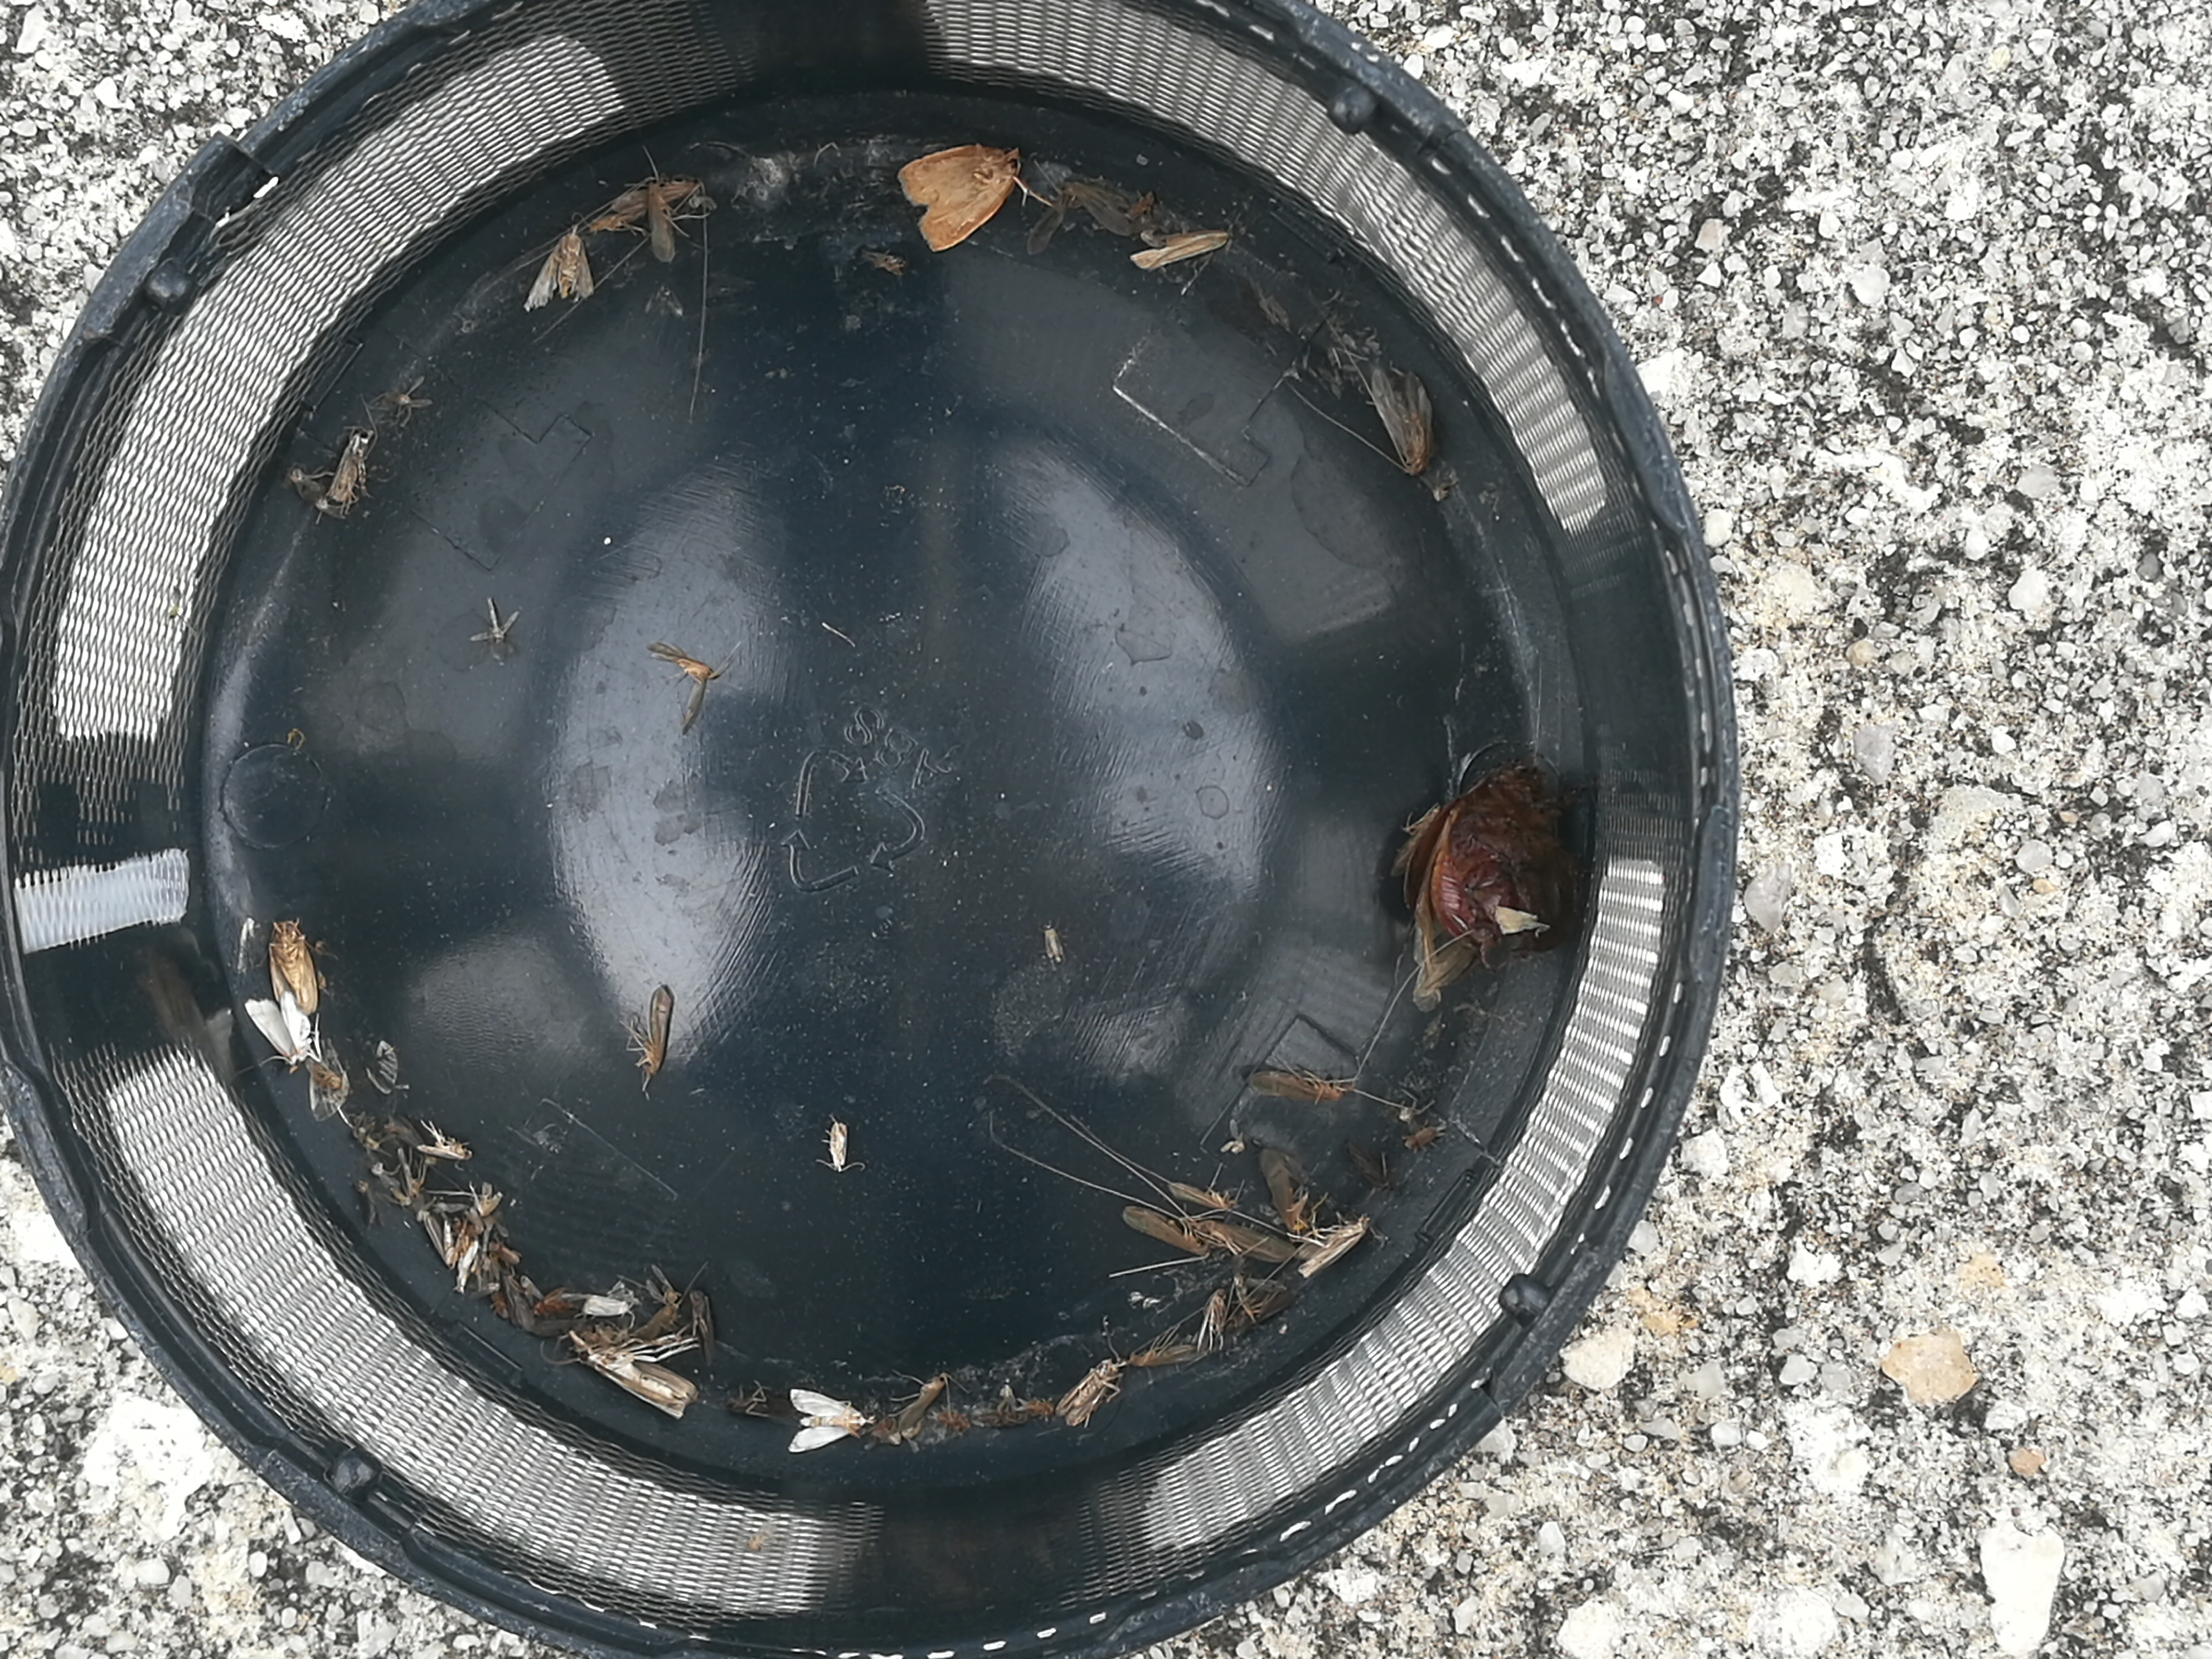beetle: (1433, 762, 1562, 951)
mosquito: (578, 1347, 695, 1417), (1123, 1208, 1207, 1260), (1298, 1216, 1367, 1277), (1258, 1145, 1305, 1229), (1197, 1220, 1291, 1262), (611, 179, 704, 216), (897, 1373, 949, 1431), (1247, 1072, 1343, 1100), (333, 430, 369, 497), (648, 173, 672, 260), (1170, 1180, 1231, 1211), (650, 985, 671, 1075), (416, 1131, 475, 1161), (1129, 1344, 1198, 1368), (829, 1122, 846, 1171)
moth: (900, 145, 1015, 251), (1024, 179, 1127, 254), (1369, 366, 1432, 477), (789, 1387, 864, 1455), (246, 990, 314, 1063), (526, 232, 590, 308), (268, 918, 319, 1012)
